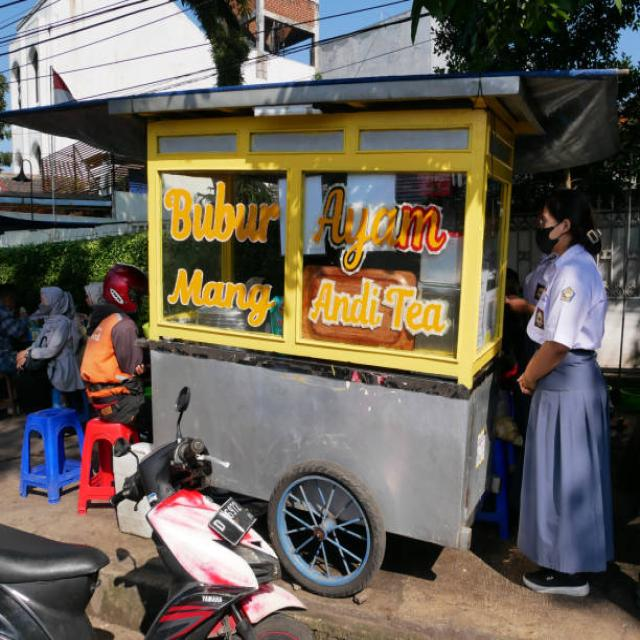Emperan: (0, 70, 640, 600)
